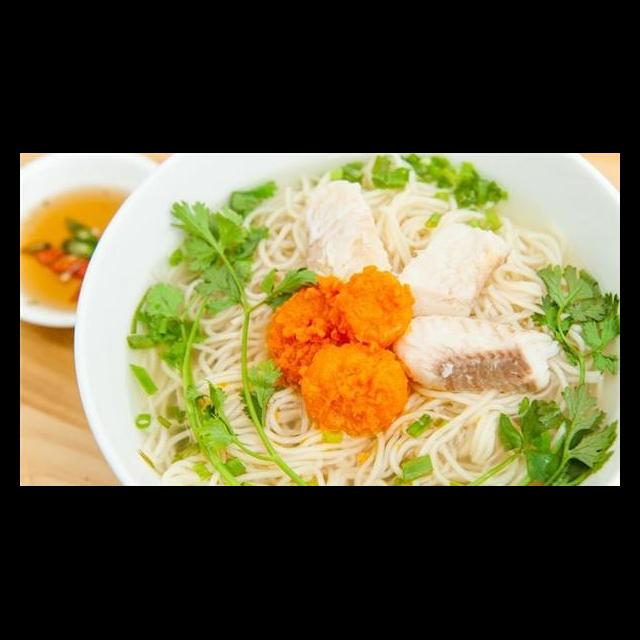bun: (146, 176, 305, 484), (128, 392, 581, 486), (480, 204, 596, 320)
bun ca: (127, 162, 617, 486)
ca: (391, 306, 567, 399), (396, 212, 517, 316), (301, 175, 395, 286)
tom: (261, 270, 366, 392), (297, 340, 413, 440), (310, 262, 419, 358)
